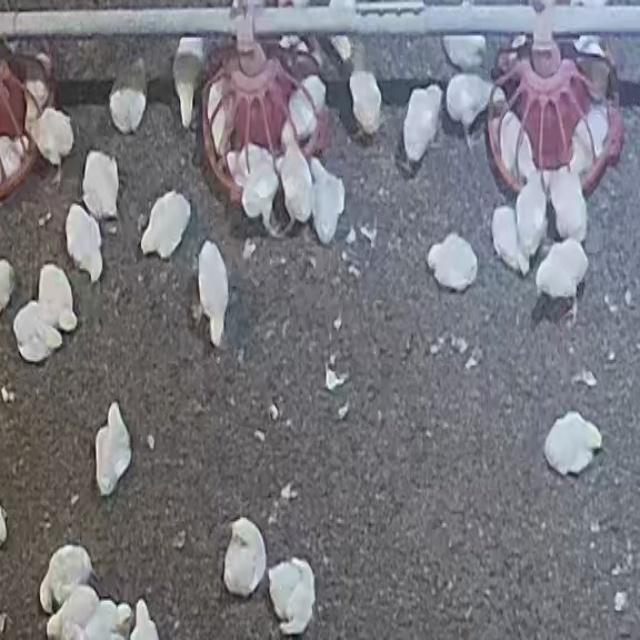chicken: (275, 119, 315, 219), (543, 412, 602, 478), (533, 234, 590, 301), (41, 544, 94, 613), (267, 558, 315, 634), (438, 0, 490, 70), (446, 68, 505, 128), (222, 517, 266, 597), (94, 402, 132, 494), (401, 85, 444, 166), (201, 238, 232, 350), (140, 191, 190, 258), (497, 107, 538, 187), (239, 146, 278, 230), (45, 582, 99, 640), (108, 56, 148, 134), (549, 168, 589, 245), (65, 205, 104, 283), (569, 105, 609, 181), (310, 158, 345, 244), (12, 302, 59, 366), (515, 174, 549, 261), (172, 38, 206, 124), (426, 232, 476, 290), (36, 263, 76, 335), (29, 106, 78, 164), (81, 151, 121, 221), (287, 73, 326, 143), (492, 208, 526, 275), (348, 69, 382, 136)
